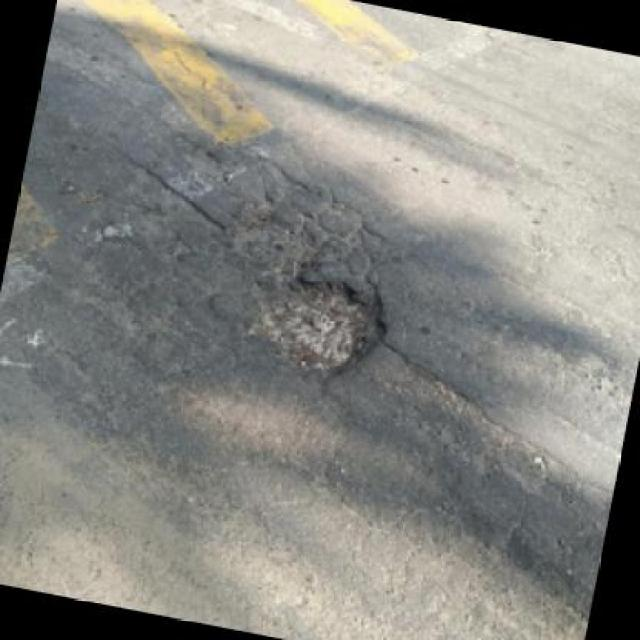pothole1: (234, 256, 398, 390), (216, 199, 324, 275), (165, 130, 226, 179)
